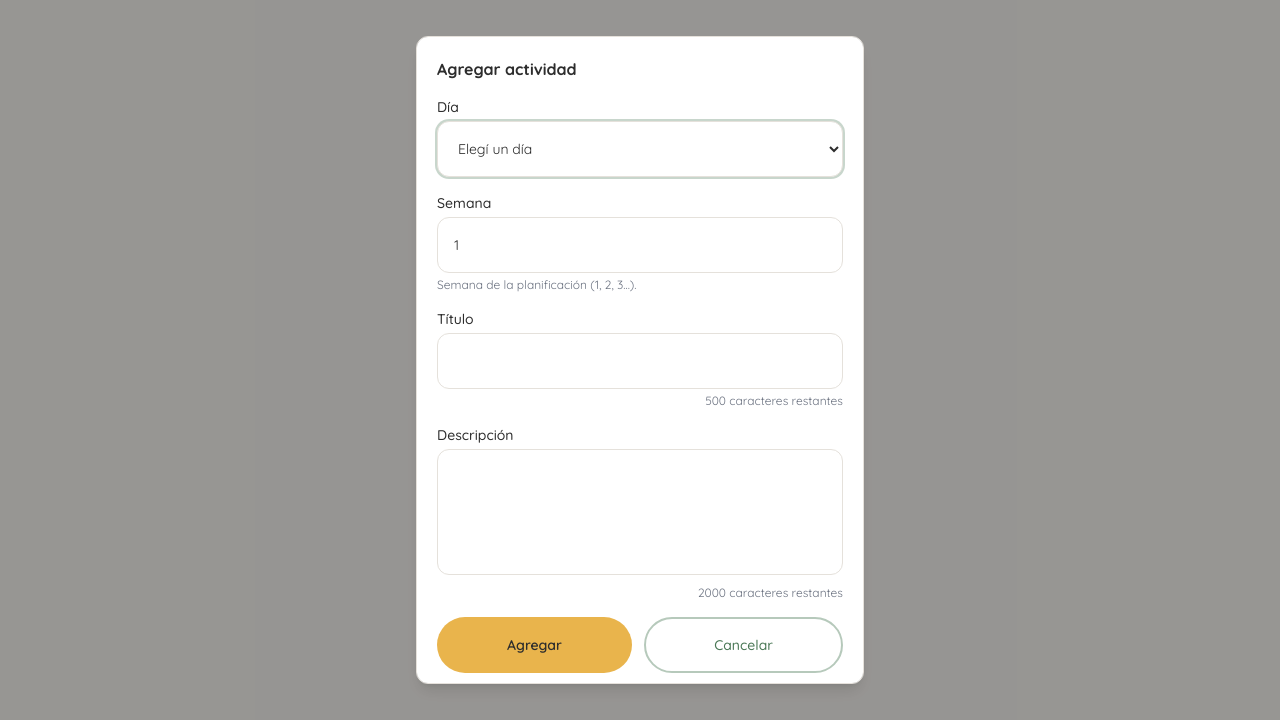
Test case: AgregarActividadForm › muestra errores inline y no envía cuando todos los campos están vacíos
Click the button "Agregar" at {"x": 534, "y": 645}, box [437,617,632,673]
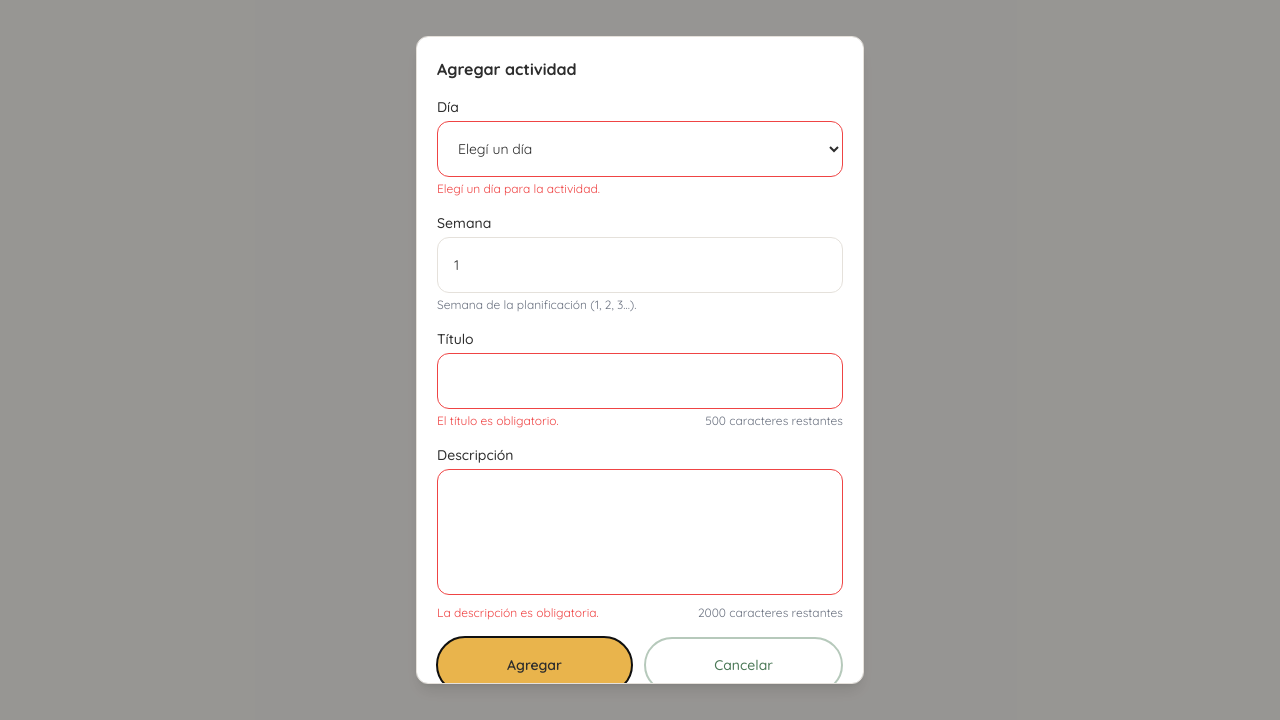
Expected: the text "Elegí un día para la actividad." is shown, [437,181,600,196]
Expected: the text "El título es obligatorio." is shown, [437,413,559,429]
Expected: the text "La descripción es obligatoria." is shown, [437,605,599,621]
